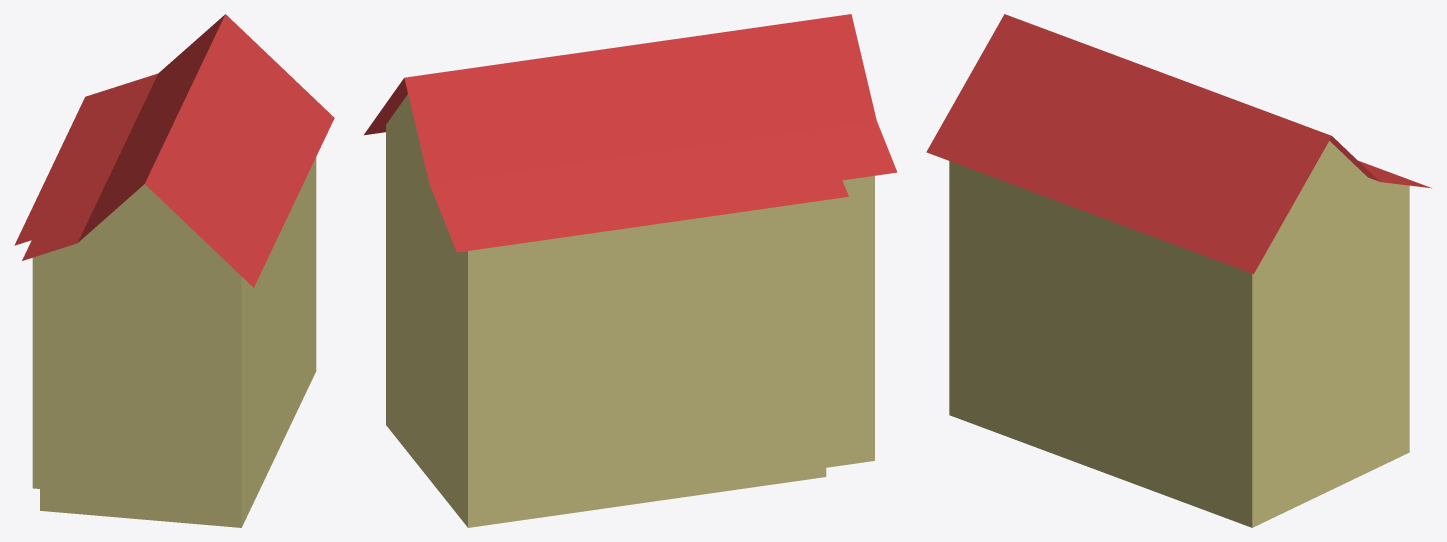
3 views of the same model, side by side, from view 1: azimuth 30°, elevation 25°; view 2: azimuth 150°, elevation 25°; view 3: azimuth 270°, elevation 25° (orthographic). The views are drawn at different scales.
Bounding box in the file's own units: 21.71 × 23.03 × 18.28.
